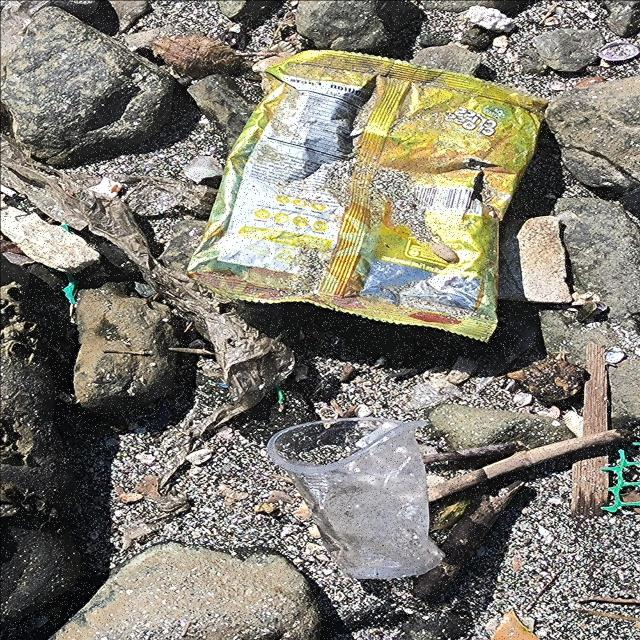plastic_waste: (182, 51, 551, 344), (265, 417, 447, 582)
